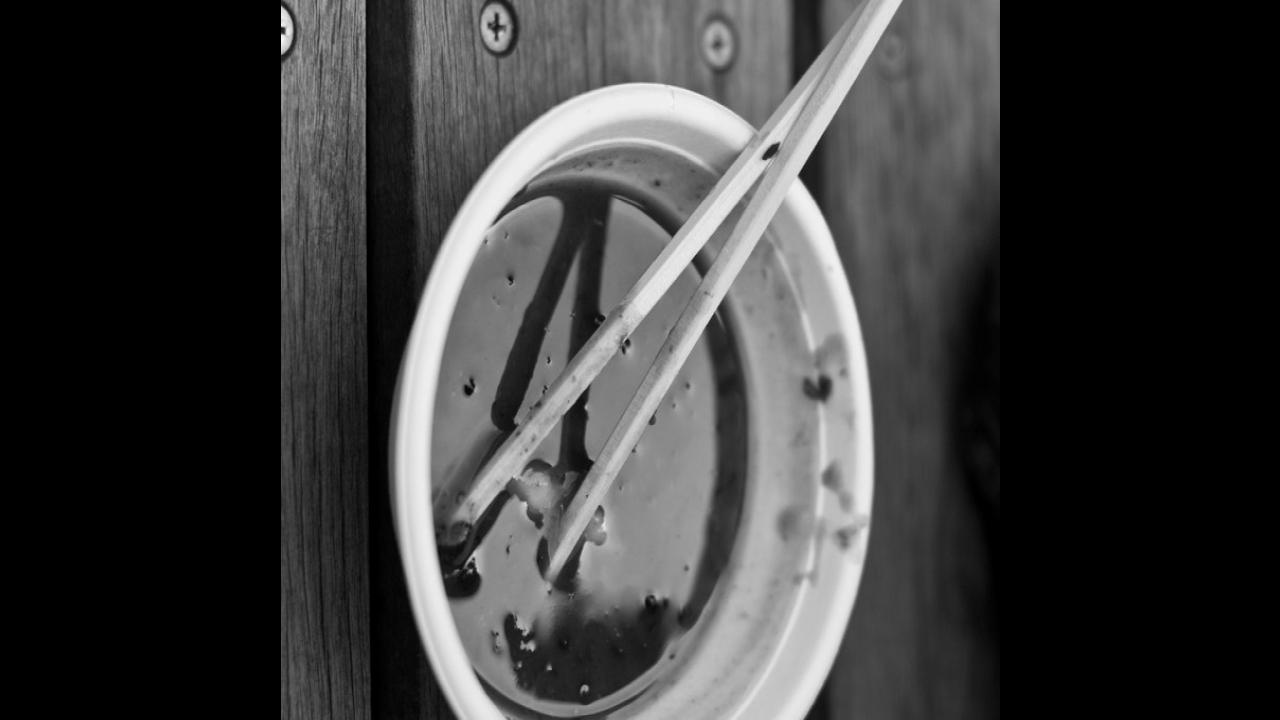chopstick: (448, 0, 1000, 588)
